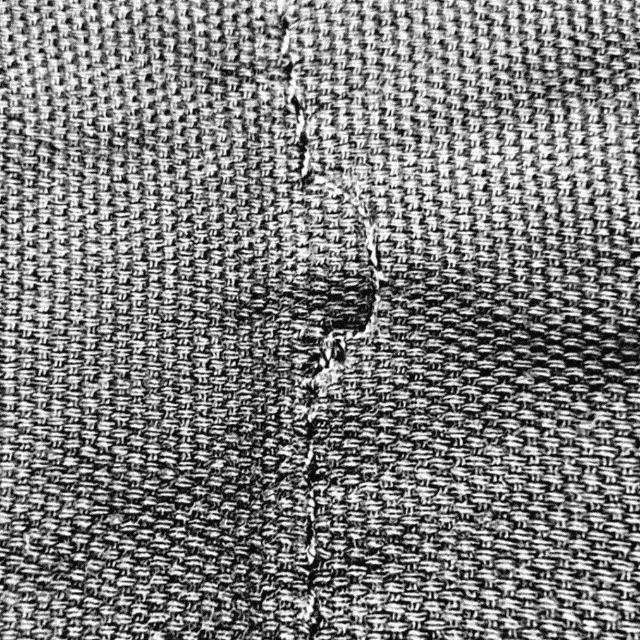Sewing_error: (276, 123, 384, 429)
